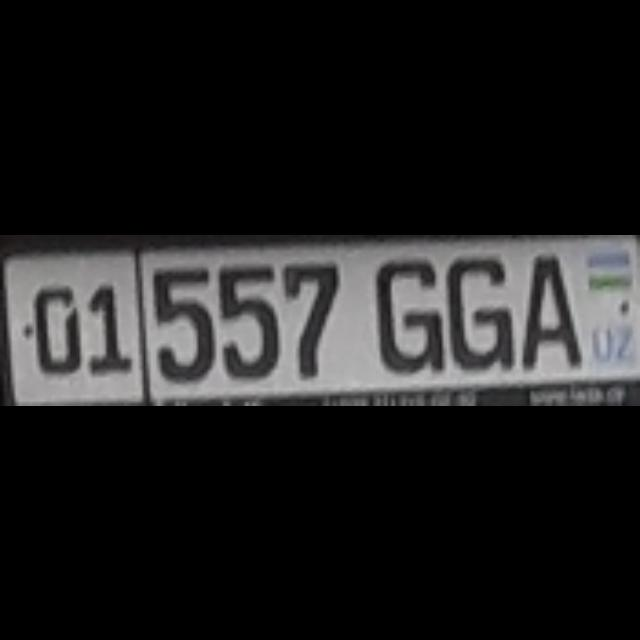0: (29, 281, 77, 369)
1: (84, 282, 128, 372)
5: (150, 264, 212, 381), (216, 260, 274, 376)
7: (278, 260, 336, 372)
A: (516, 248, 578, 366)
G: (373, 256, 439, 370), (442, 252, 508, 366)
